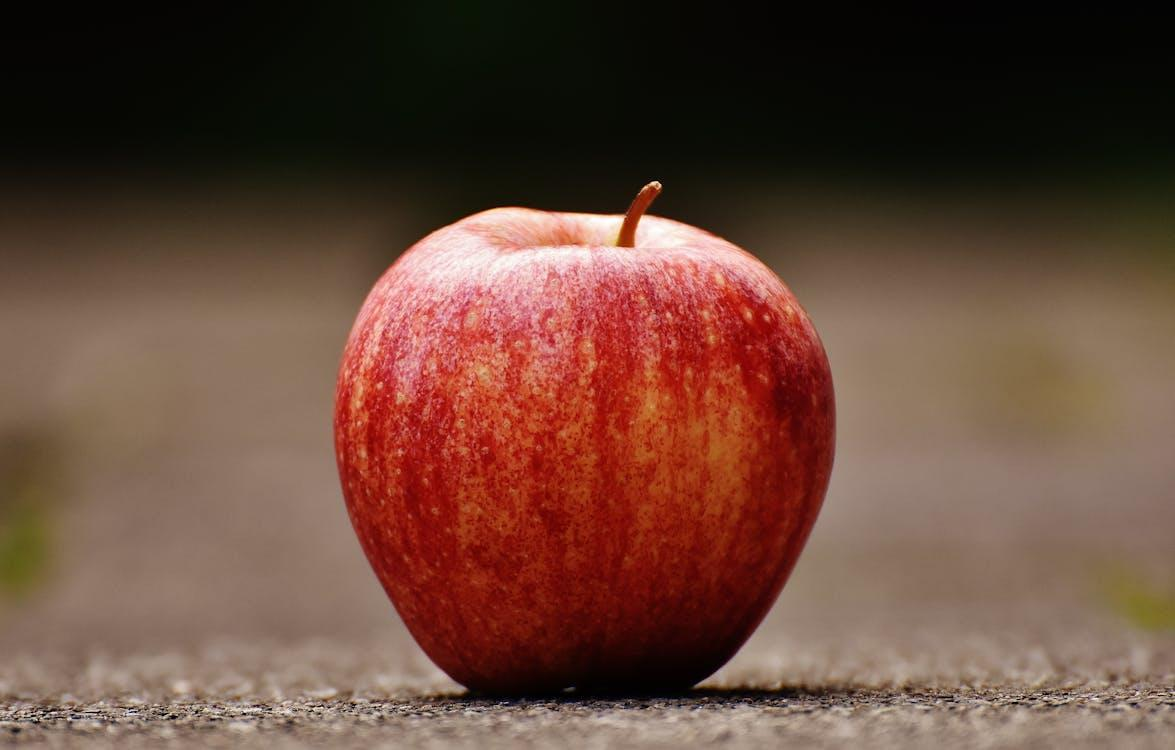apple: (331, 181, 838, 700)
